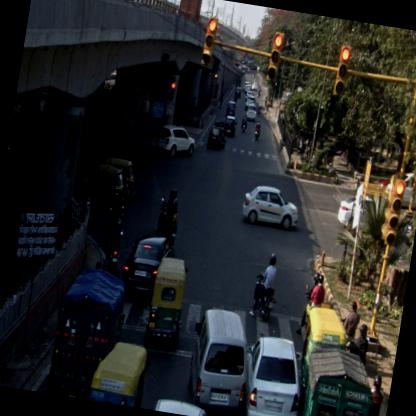car: (183, 304, 256, 412), (236, 331, 310, 415), (117, 228, 174, 303), (238, 182, 302, 230), (152, 124, 196, 162), (143, 396, 218, 415), (206, 124, 228, 152), (221, 114, 236, 136), (245, 103, 257, 120), (225, 101, 237, 116), (252, 80, 259, 91), (234, 86, 241, 96)
motorcycle: (248, 248, 282, 320), (294, 268, 326, 336), (361, 374, 391, 415), (102, 219, 125, 272), (155, 186, 180, 232), (162, 195, 184, 244), (253, 117, 263, 141), (238, 113, 247, 134)
truck: (45, 265, 130, 402), (298, 344, 379, 415)
